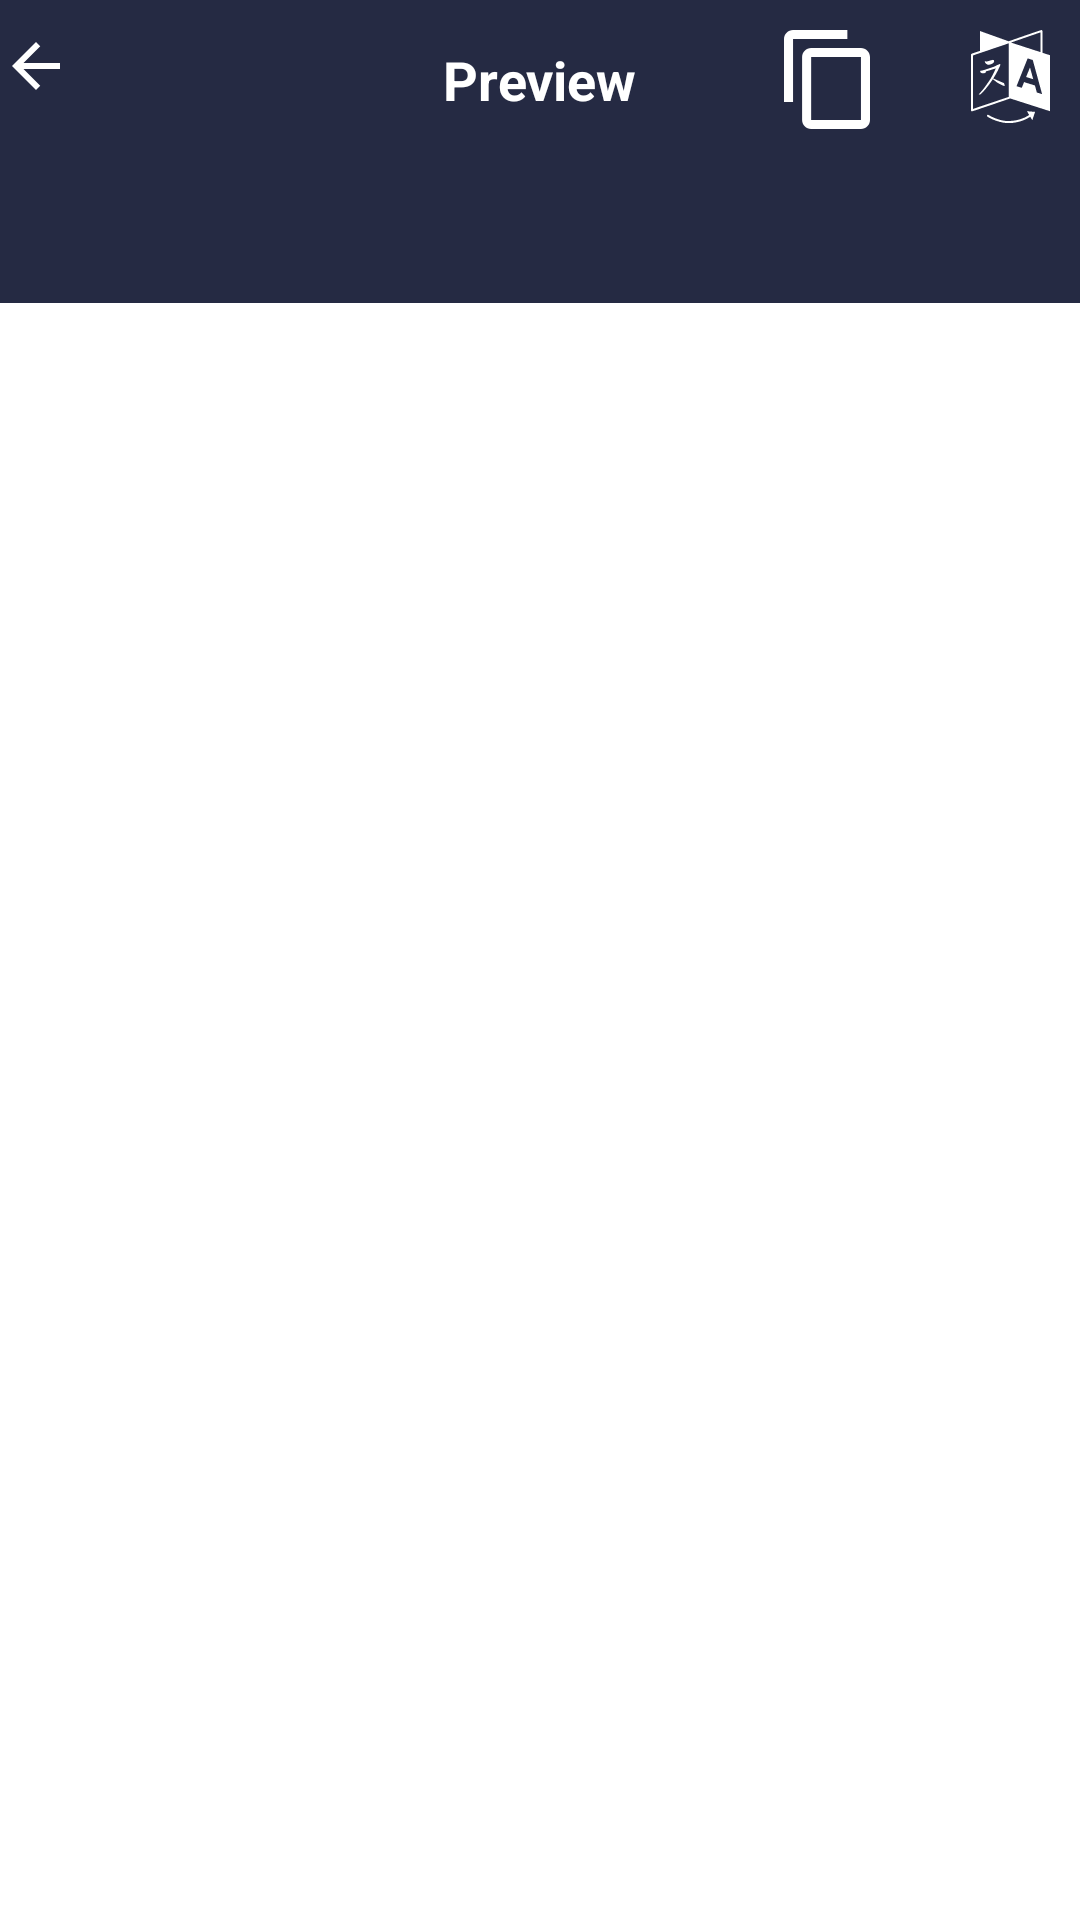

Icons on this 1080*1920 Android screen, each with the point to tap as (x=x, y=y):
arrow back: (x=36, y=66)
language: (x=1010, y=76)
